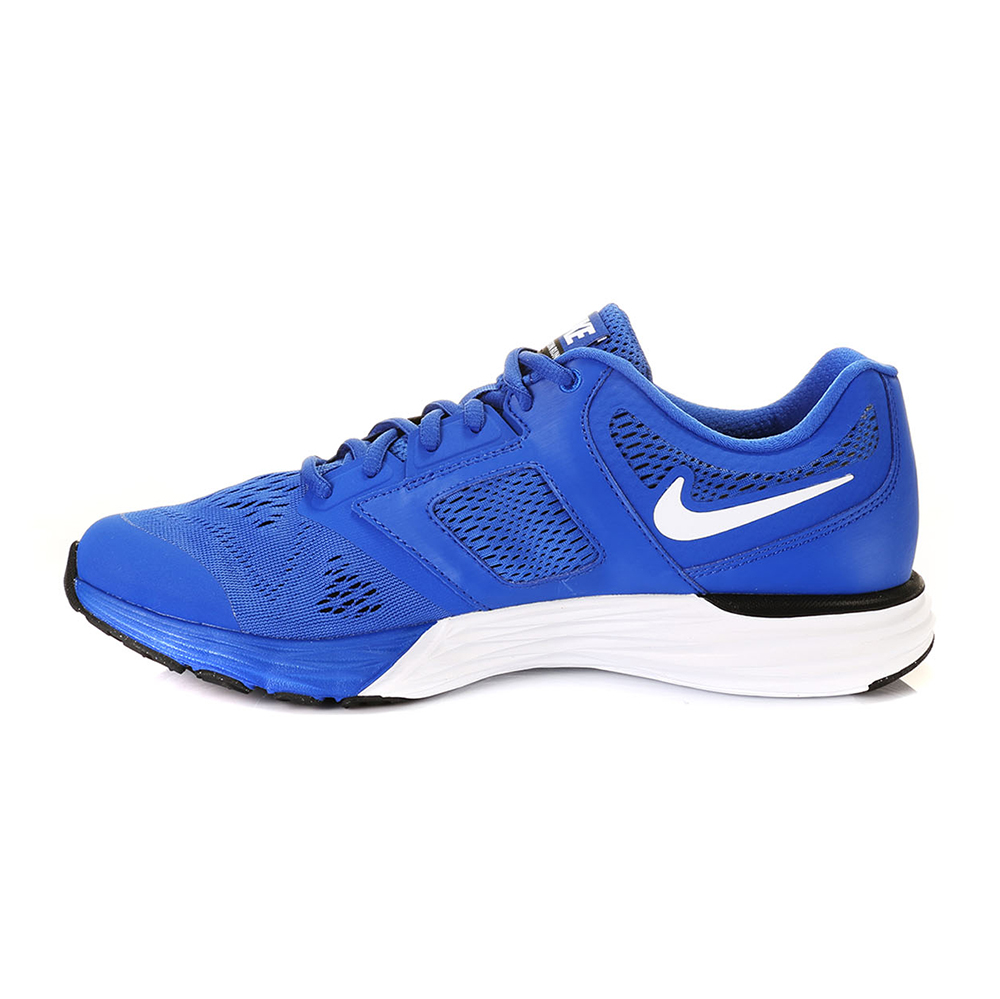Nike: (649, 469, 860, 544)
